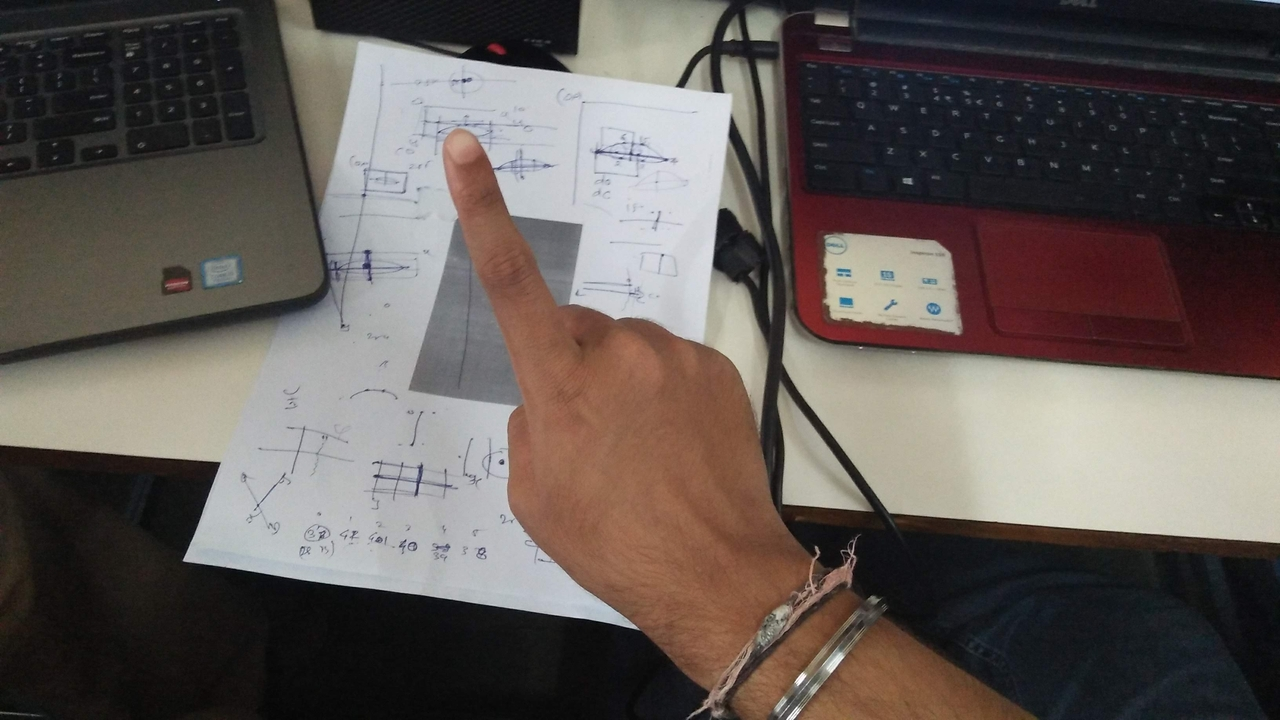fingertip: (432, 126, 492, 176)
